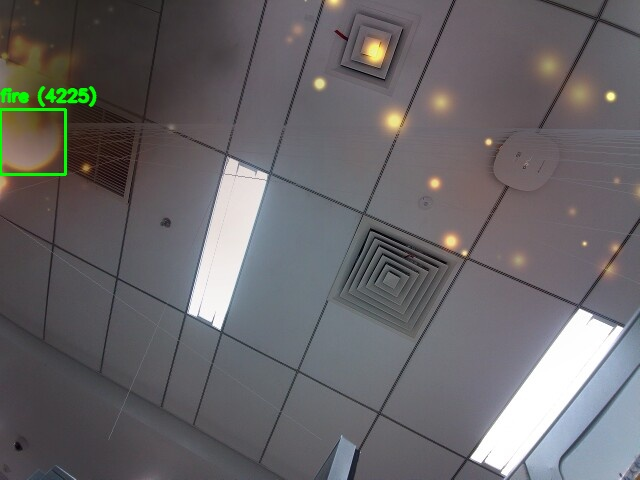fire: (0, 109, 65, 174)
